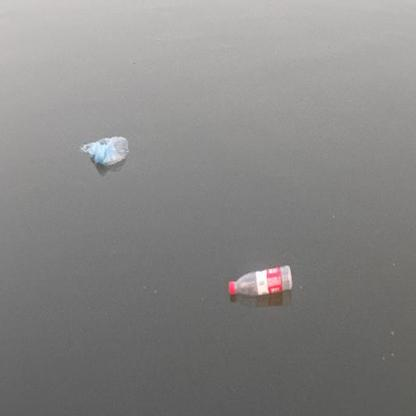plastic bag: (80, 135, 128, 166)
plastic bottle: (229, 265, 293, 295)
